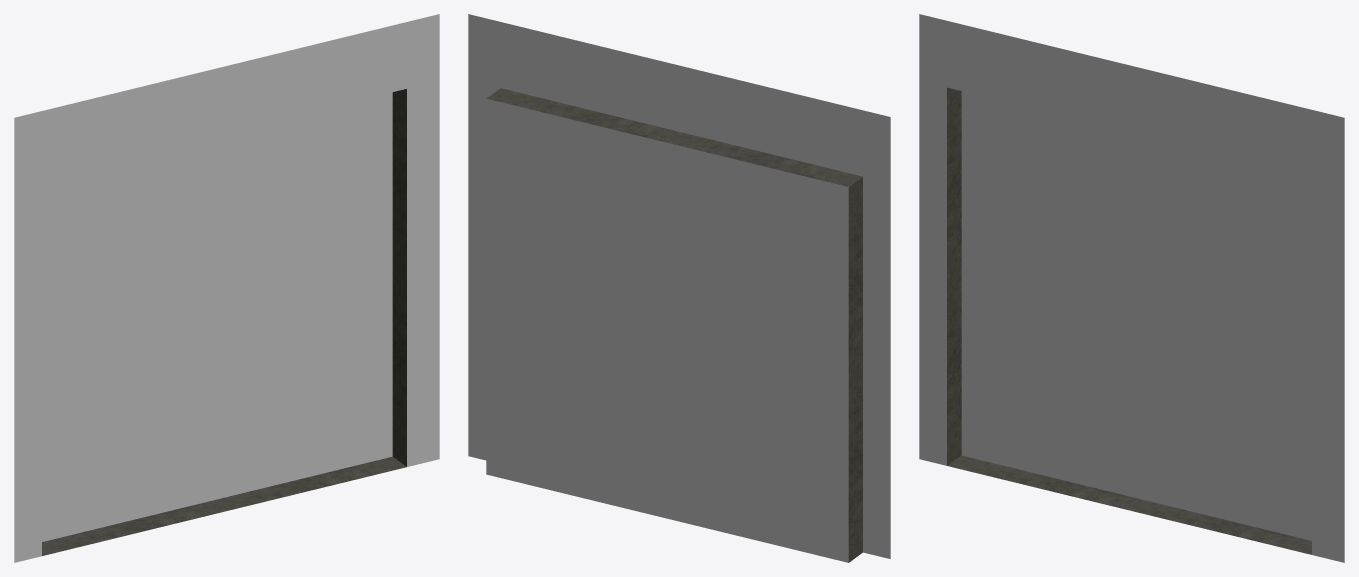
File: CT_door_07.fbx
The picture shows the model from 3 angles, left to right: view 1: azimuth 30°, elevation 25°; view 2: azimuth 150°, elevation 25°; view 3: azimuth 330°, elevation 25°; orthographic projection.
Parts seen in each view (by area): view 1: CT_door_07; view 2: CT_door_07; view 3: CT_door_07.
Part boxes in pixels (x1,y1,x2,y2): CT_door_07: [14, 14, 439, 562]; CT_door_07: [468, 14, 890, 562]; CT_door_07: [919, 14, 1344, 562].
Size of the model in its own units: 256 by 256 by 15.
